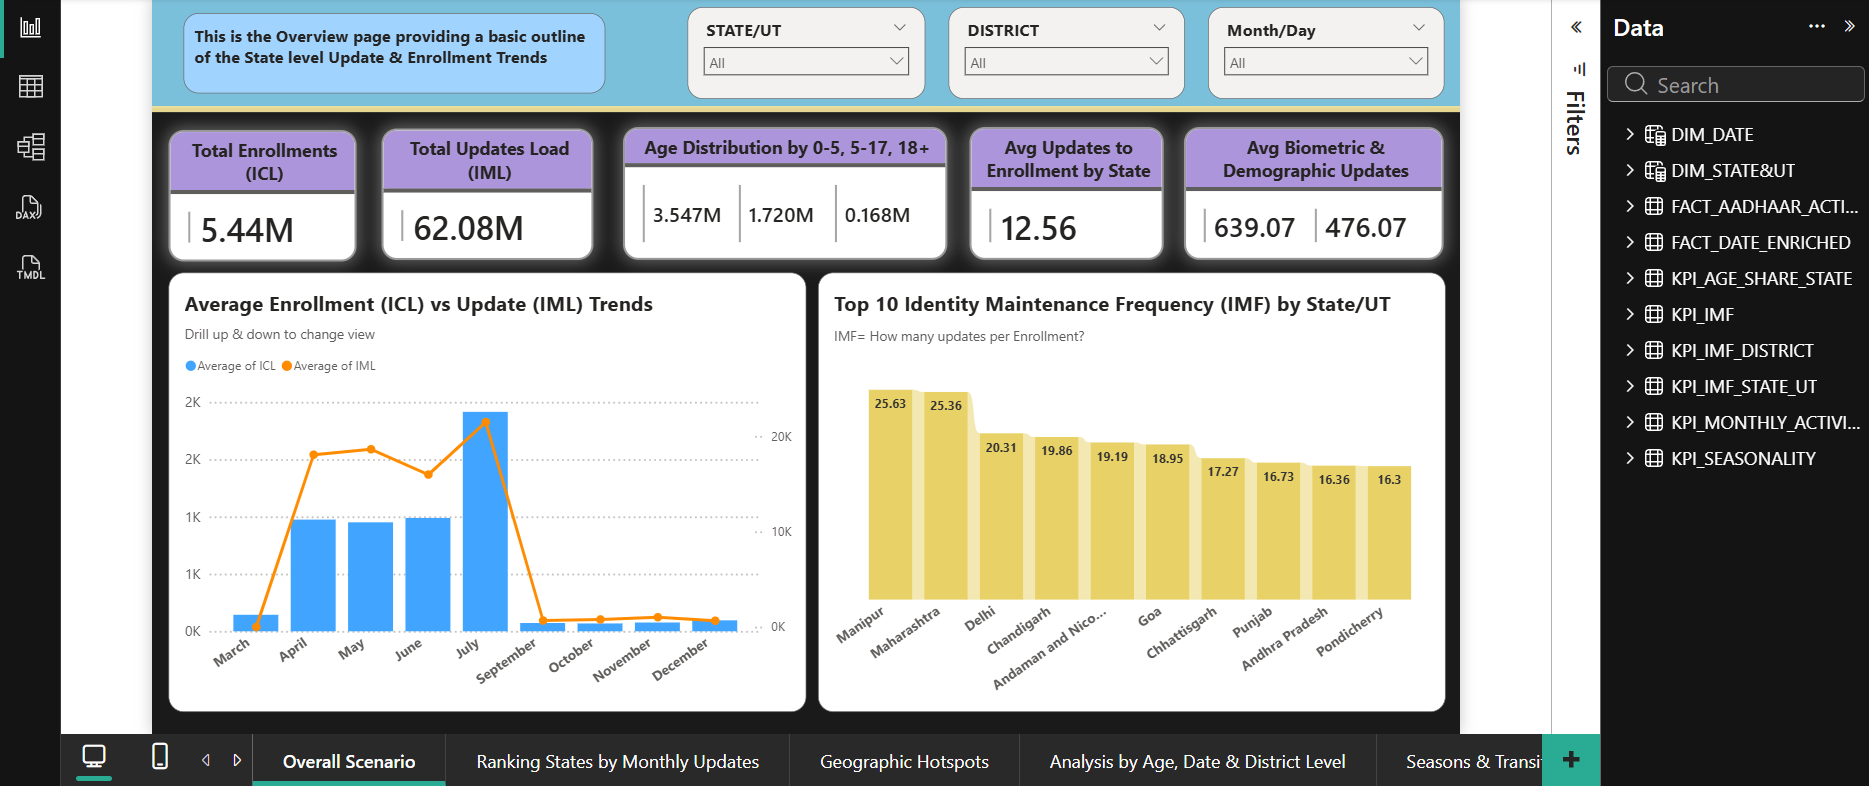

The page's visual inventory and layout, read from the dashboard file:
{"tool":"powerbi","page":{"name":"Overall Scenario","canvas":[1280,720],"ordinal":0},"visuals":[{"type":"shape","box":[0,0,1280,107.5],"z":0},{"type":"shape","box":[0,87.5,1280,41.2],"z":1000},{"type":"cardVisual","title":"Total Enrollments (ICL)","fields":{"Data":["Sum(FACT_AADHAAR_ACTIVITY.ICL)"]},"box":[16.2,128.8,183.8,128.8],"z":2000},{"type":"cardVisual","title":"Total Updates Load (IML)","fields":{"Data":["Sum(FACT_AADHAAR_ACTIVITY.IML)"]},"box":[225,127.5,207.5,128.8],"z":3000},{"type":"cardVisual","title":"Avg Updates to Enrollment by State","fields":{"Data":["Avg(KPI_IMF_STATE_UT.IMF_STATE)"]},"box":[800,126.2,190,130],"z":4000},{"type":"cardVisual","title":"Avg Biometric & Demographic Updates","fields":{"Data":["Avg(FACT_AADHAAR_ACTIVITY.BIO_UPDATES)","Avg(FACT_AADHAAR_ACTIVITY.DEMO_UPDATES)"]},"box":[1010,126.2,253.8,130],"z":5000},{"type":"lineClusteredColumnComboChart","title":"Average Enrollment (ICL) vs Update (IML) Trends","fields":{"Y":["Avg(FACT_AADHAAR_ACTIVITY.ICL)"],"Y2":["Avg(FACT_AADHAAR_ACTIVITY.IML)"],"Category":["DIM_DATE.Date.Variation.Date Hierarchy.Month","DIM_DATE.Date.Variation.Date Hierarchy.Day"]},"box":[16.2,268.8,623.8,430],"z":6000},{"type":"columnChart","title":"Top 10 Identity Maintenance Frequency (IMF) by State/UT","fields":{"Category":["KPI_IMF_STATE.STATE"],"Y":["Sum(KPI_IMF_STATE.IMF_STATE)"]},"box":[651.2,268.8,613.8,430],"z":7000},{"type":"slicer","fields":{"Values":["DIM_STATE&UT.STATE/UT"]},"box":[523.8,8.8,232.5,90],"z":8000},{"type":"slicer","fields":{"Values":["DIM_DATE.Date.Variation.Date Hierarchy.Month","DIM_DATE.Date.Variation.Date Hierarchy.Day"]},"box":[1032.5,8.8,231.2,90],"z":9000},{"type":"slicer","fields":{"Values":["FACT_AADHAAR_ACTIVITY.DISTRICT"]},"box":[778.8,8.8,231.2,90],"z":10000},{"type":"cardVisual","title":"Age Distribution by 0-5, 5-17, 18+","fields":{"Data":["Sum(FACT_AADHAAR_ACTIVITY.AGE_0_5)","Sum(FACT_AADHAAR_ACTIVITY.AGE_5_17)","Sum(FACT_AADHAAR_ACTIVITY.AGE_18_GREATER)"]},"box":[461.2,126.2,317.5,130],"z":11000},{"type":"textbox","box":[31.4,14.3,412.9,78.6],"z":12000}]}

Visuals, with their boxes on the page's 1280x720 design canvas (x1, y1, x2, y2). These are canvas units, not pixel positions in the 1869x786 screenshot, which may show the page scaled, cropped or inside an application window:
shape: [0, 0, 1280, 108]
shape: [0, 88, 1280, 129]
"Total Enrollments (ICL)" cardVisual: [16, 129, 200, 258]
"Total Updates Load (IML)" cardVisual: [225, 128, 432, 256]
"Avg Updates to Enrollment by State" cardVisual: [800, 126, 990, 256]
"Avg Biometric & Demographic Updates" cardVisual: [1010, 126, 1264, 256]
"Average Enrollment (ICL) vs Update (IML) Trends" lineClusteredColumnComboChart: [16, 269, 640, 699]
"Top 10 Identity Maintenance Frequency (IMF) by State/UT" columnChart: [651, 269, 1265, 699]
slicer - DIM_STATE&UT.STATE/UT: [524, 9, 756, 99]
slicer - DIM_DATE.Date.Variation.Date Hierarchy.Month x DIM_DATE.Date.Variation.Date Hierarchy.Day: [1032, 9, 1264, 99]
slicer - FACT_AADHAAR_ACTIVITY.DISTRICT: [779, 9, 1010, 99]
"Age Distribution by 0-5, 5-17, 18+" cardVisual: [461, 126, 779, 256]
textbox: [31, 14, 444, 93]
